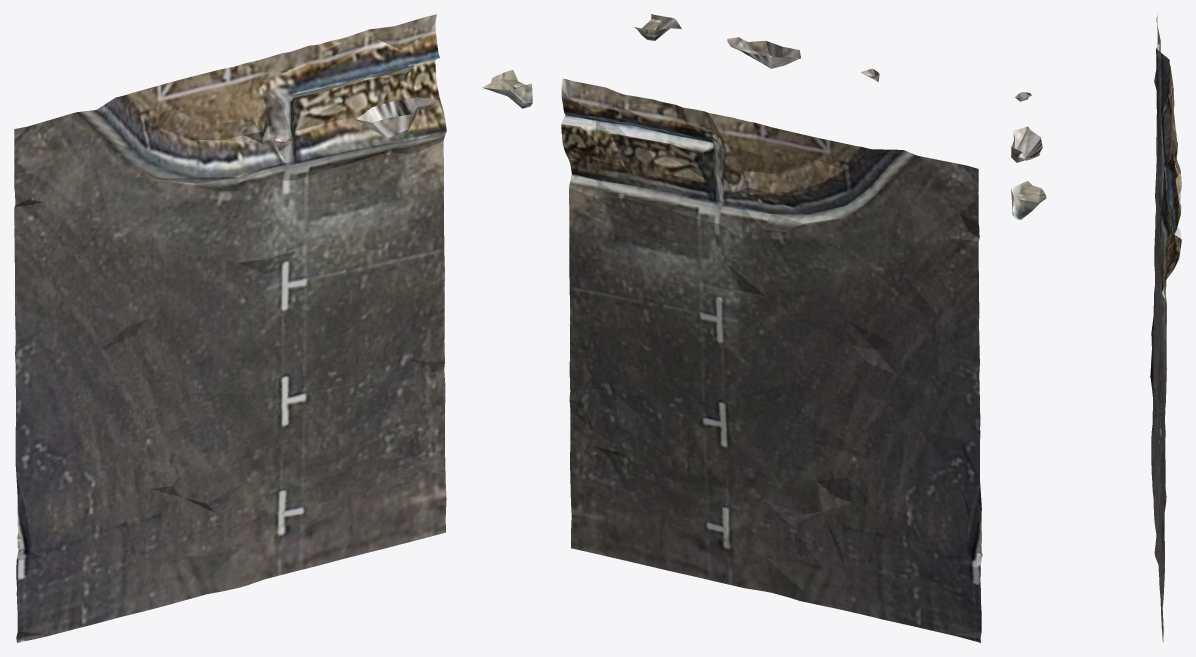
The model's file is tile_4_20_8_tex.obj.
3 renders of one model, left to right at view 1: azimuth 30°, elevation 25°; view 2: azimuth 150°, elevation 25°; view 3: azimuth 270°, elevation 25°, orthographic. The views are drawn at different scales.
Visible parts, largest first — view 1: obj_0; view 2: obj_0; view 3: obj_0.
Part boxes in pixels (bbox=[...]): obj_0: bbox=[14, 14, 532, 642]; obj_0: bbox=[561, 14, 982, 642]; obj_0: bbox=[1011, 14, 1181, 642].
Bounding box in the file's own units: 10.02 × 11.27 × 3.92.
1 material, 1 textured.
